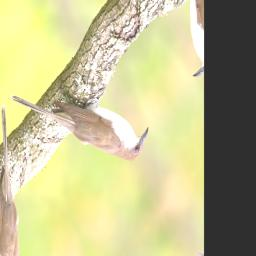Cuckoo: (9, 9, 156, 226)
